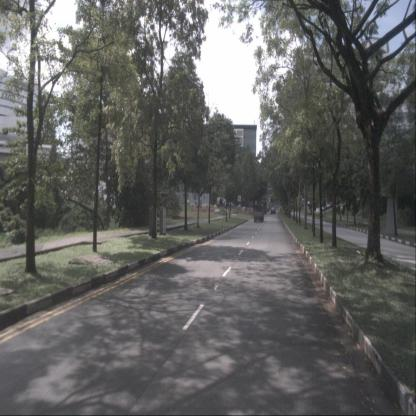vehicle-car: (271, 206, 276, 214)
vehicle-truck: (253, 204, 264, 222)
